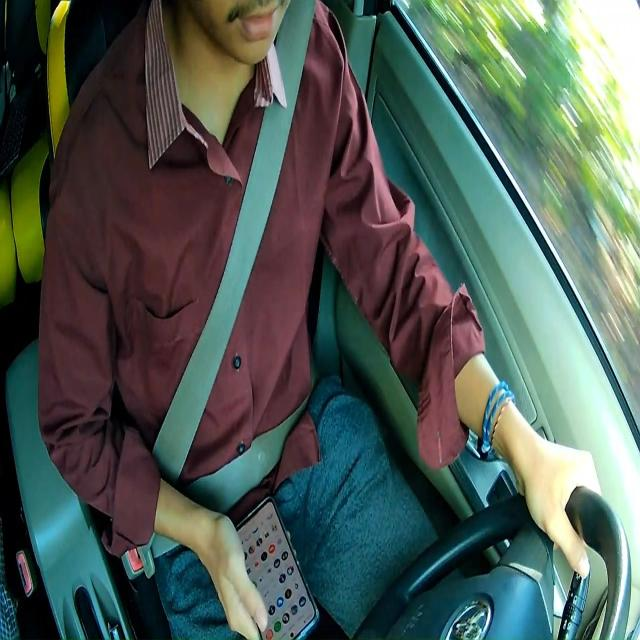phone: (235, 494, 318, 639)
